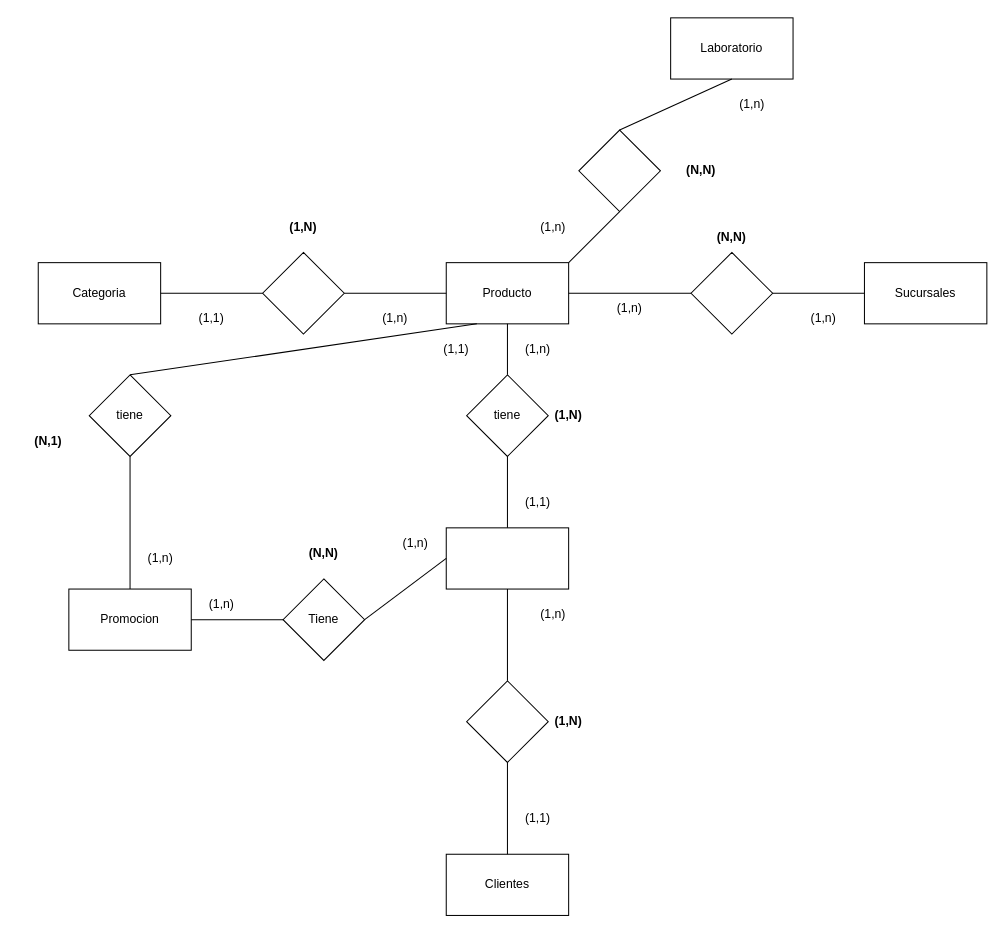
Image size: 1005x933. Some labels were removed from this diagram. Each missing label, with the centre of its shape:
Compra: (x=507, y=558)
existen: (x=731, y=292)
Hace: (x=507, y=721)
pertenece: (x=303, y=292)
Provee: (x=619, y=170)
